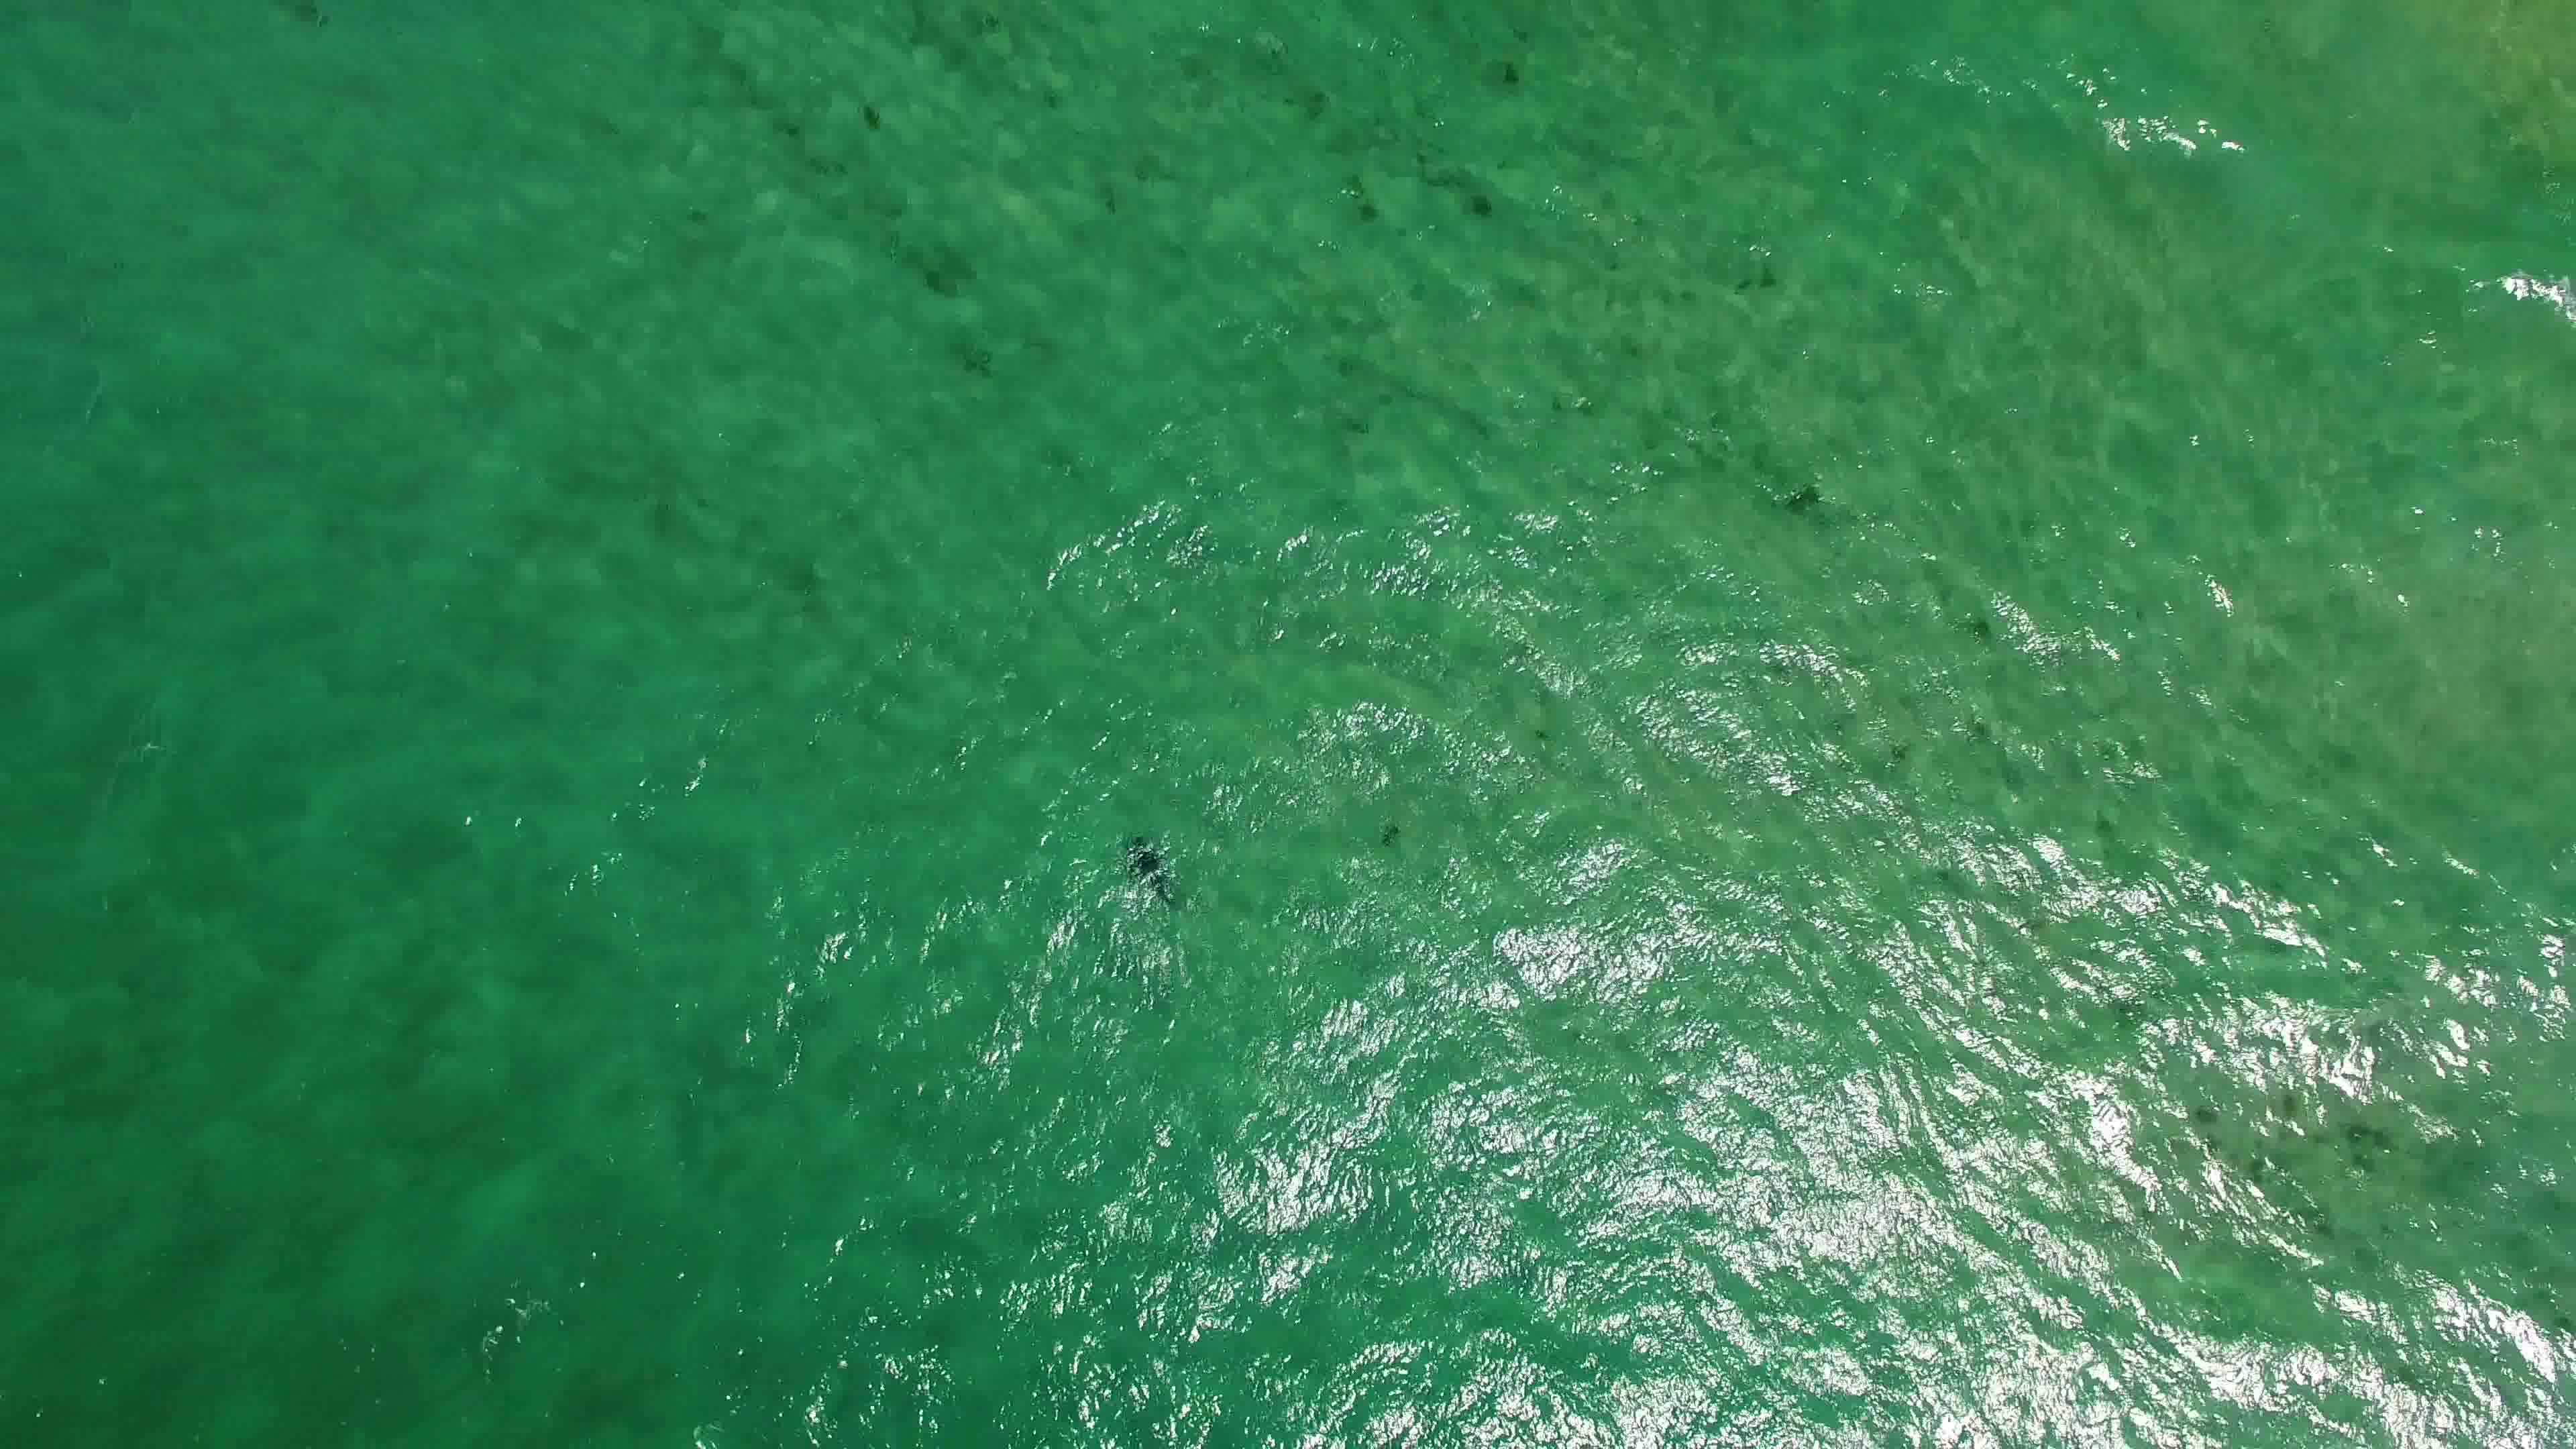shark: (1122, 832, 1191, 920)
